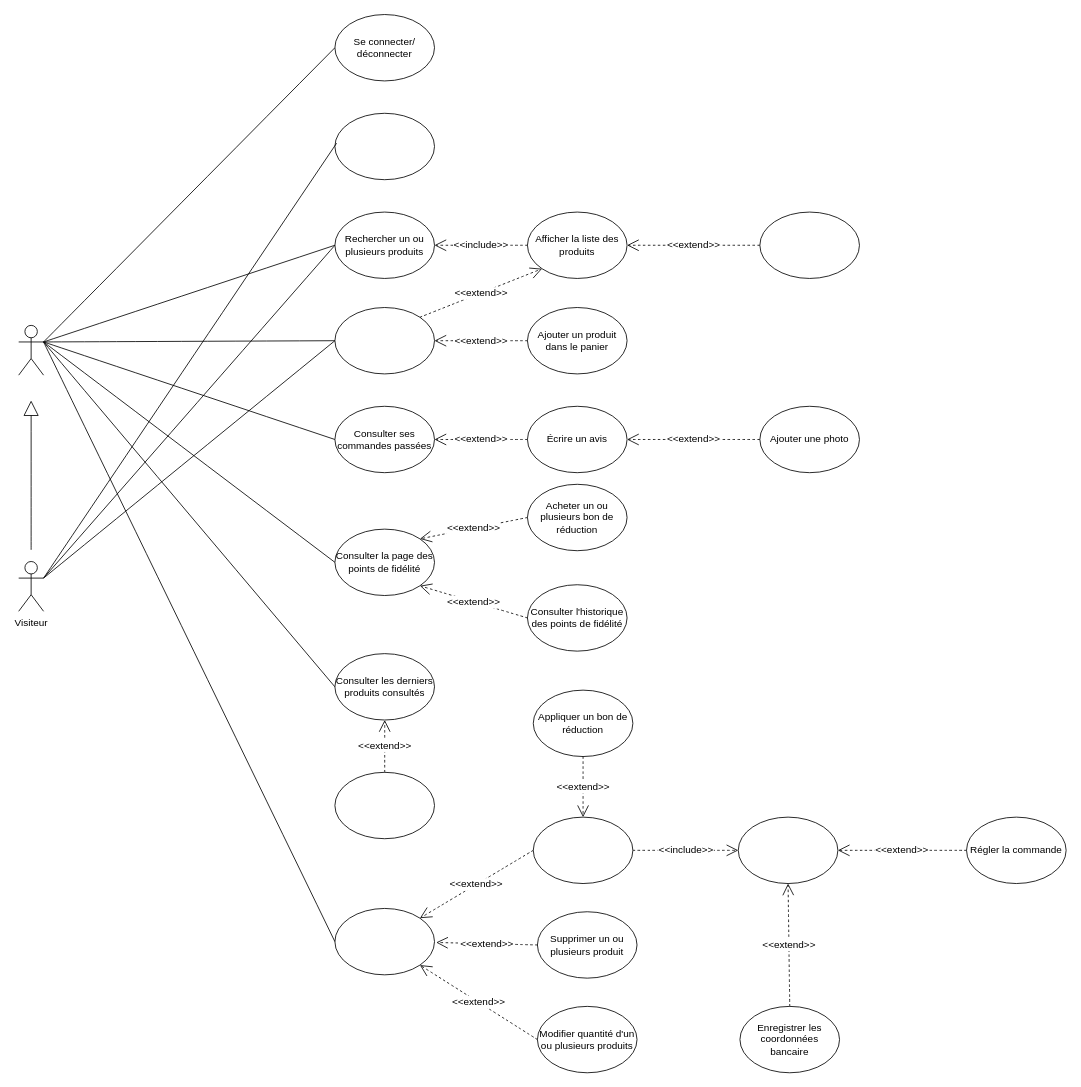
The diagram is 1081 pixels wide and 1087 high, and some of its shapes have lost their labels. Each missing label, with the box of its shape:
Choisir le moyen de paiement: (737, 816, 838, 884)
Client: (18, 325, 44, 375)
Consulter le panier: (334, 908, 435, 975)
Créer un compte: (334, 112, 435, 180)
Passer à la commande: (532, 816, 633, 884)
Supprimer un ou plusieurs produits de l'historique: (334, 771, 435, 839)
Trier la liste de produit (par ordre): (759, 211, 859, 278)
Visualiser les produits: (334, 307, 435, 374)
